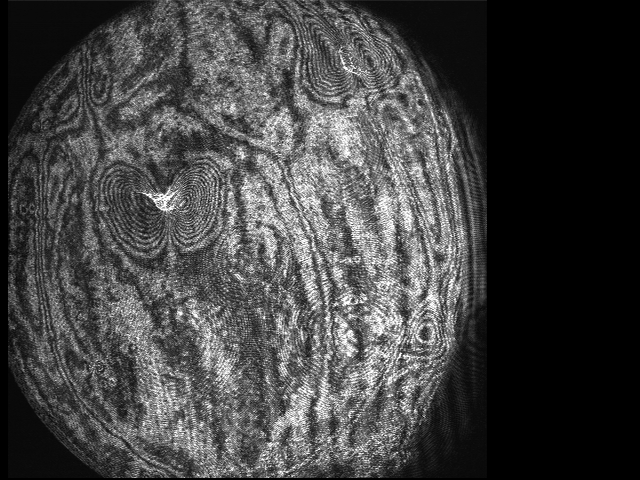plume: (98, 159, 226, 254)
